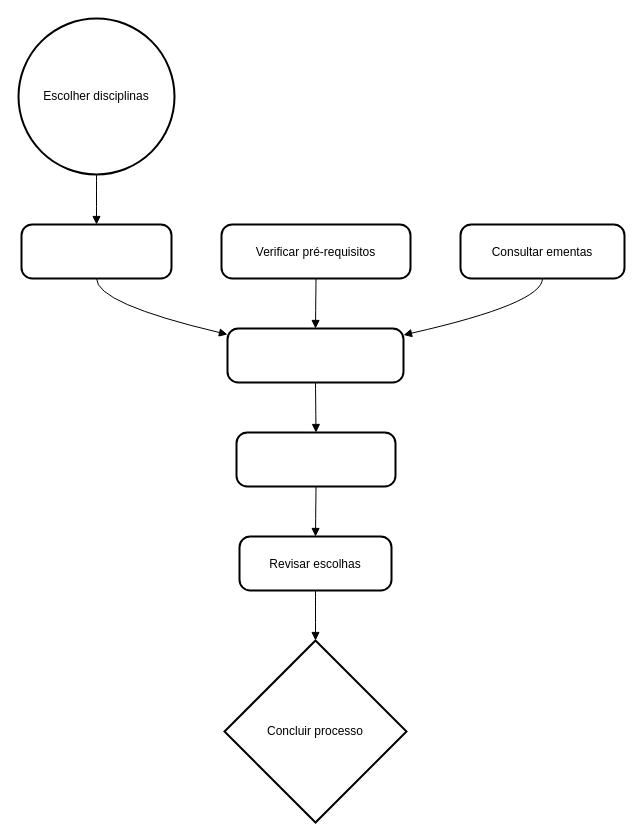
This 642x840 diagram has some shape labels left out. Here are the shapes that lost their labels. From the top down, the centre of each, then its label:
point 96,251: Verificar horários
point 315,355: Definir grade horária
point 315,459: Realizar matrícula
